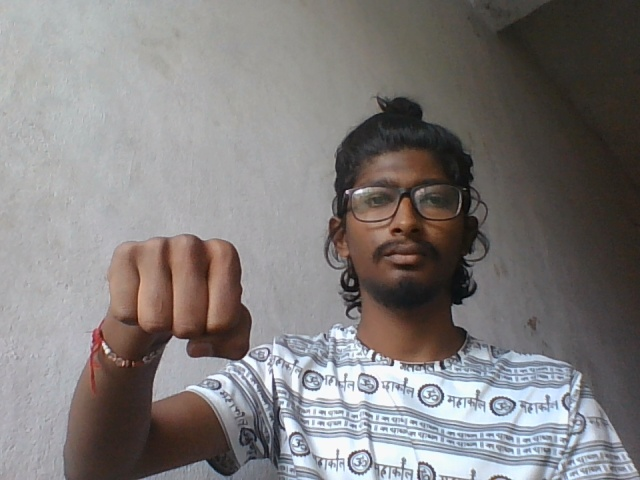Change: (104, 231, 258, 367)
